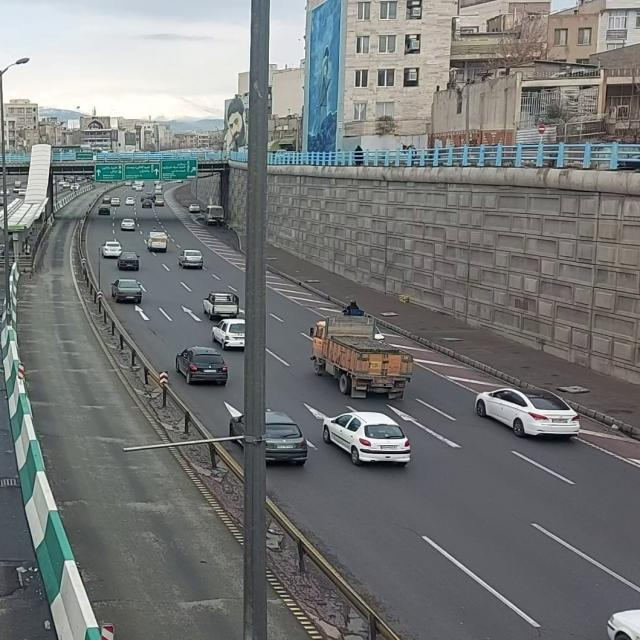Car: (473, 387, 583, 439), (320, 412, 412, 468), (174, 344, 231, 386), (111, 279, 145, 306), (114, 247, 145, 273), (177, 249, 205, 271)
Pickup: (202, 291, 240, 319), (147, 230, 169, 252)
Truck: (308, 313, 414, 401)
